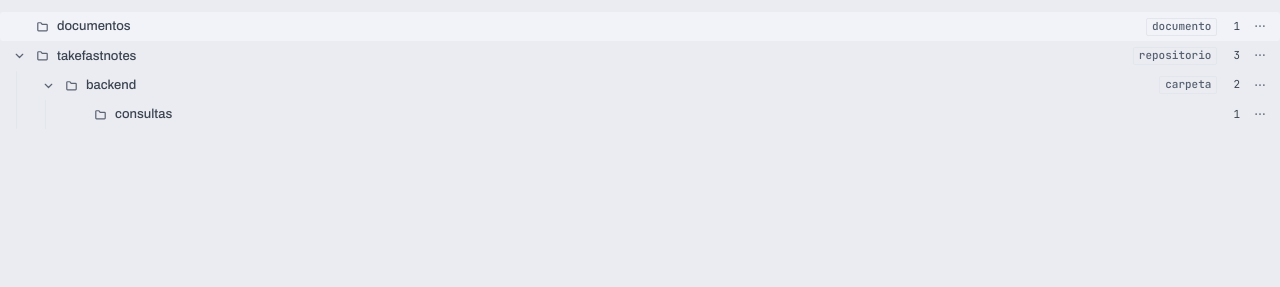
Test case: el árbol de contenedores › no ofrece como destino el propio contenedor ni sus descendientes
What coordinates should you click on to do the following:
click the button named "Acciones de takefastnotes"
I would click on:
 (1260, 55)
Its box is [1248, 43, 1272, 67].
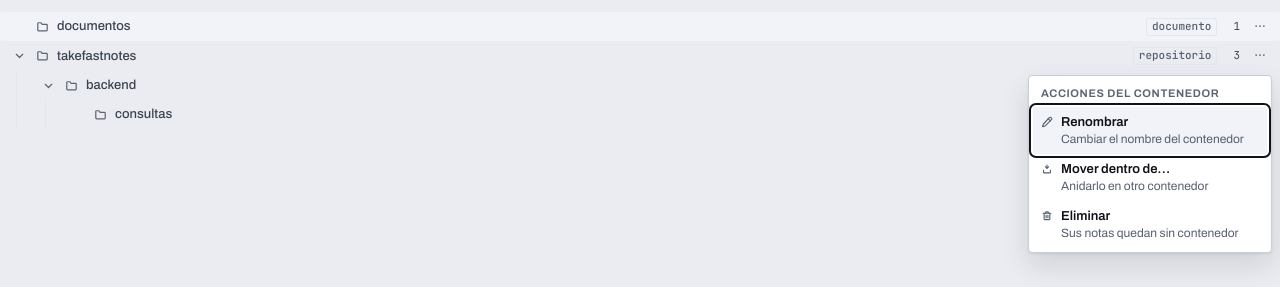
What coordinates should you click on to do the following:
click the menu item "Mover dentro de… Anidarlo en otro contenedor"
I would click on:
 (1150, 177)
Its box is [1033, 154, 1267, 201].
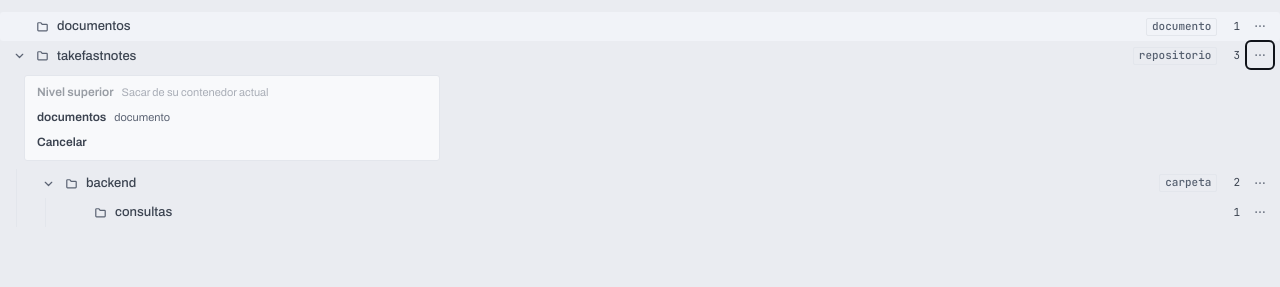
Expected: the list with class "tree-move" is shown, [24, 75, 440, 161]
Expected: the button "documentos documento" is shown, [29, 105, 435, 130]
